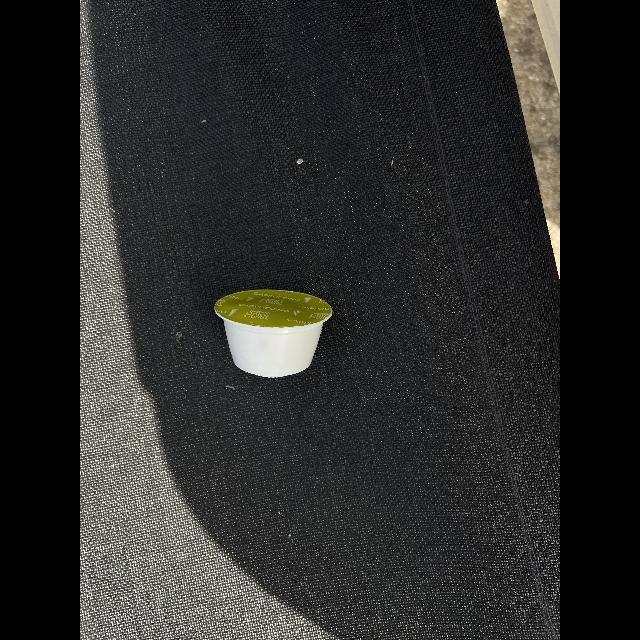intact_capsule: (207, 278, 335, 389)
